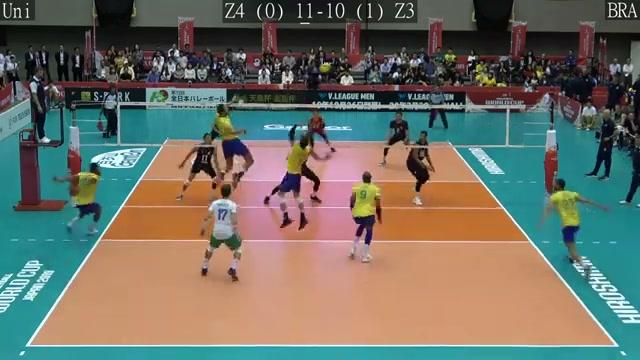ball: (319, 59, 334, 75)
